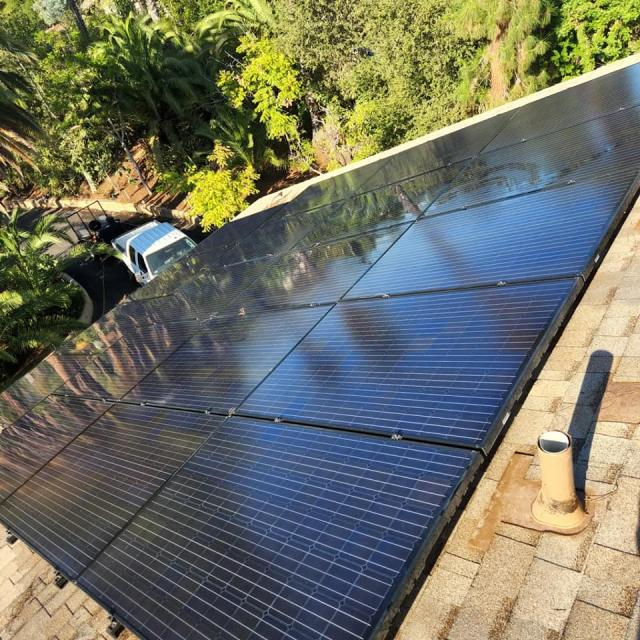clean-solar-panel: (0, 59, 640, 640)
